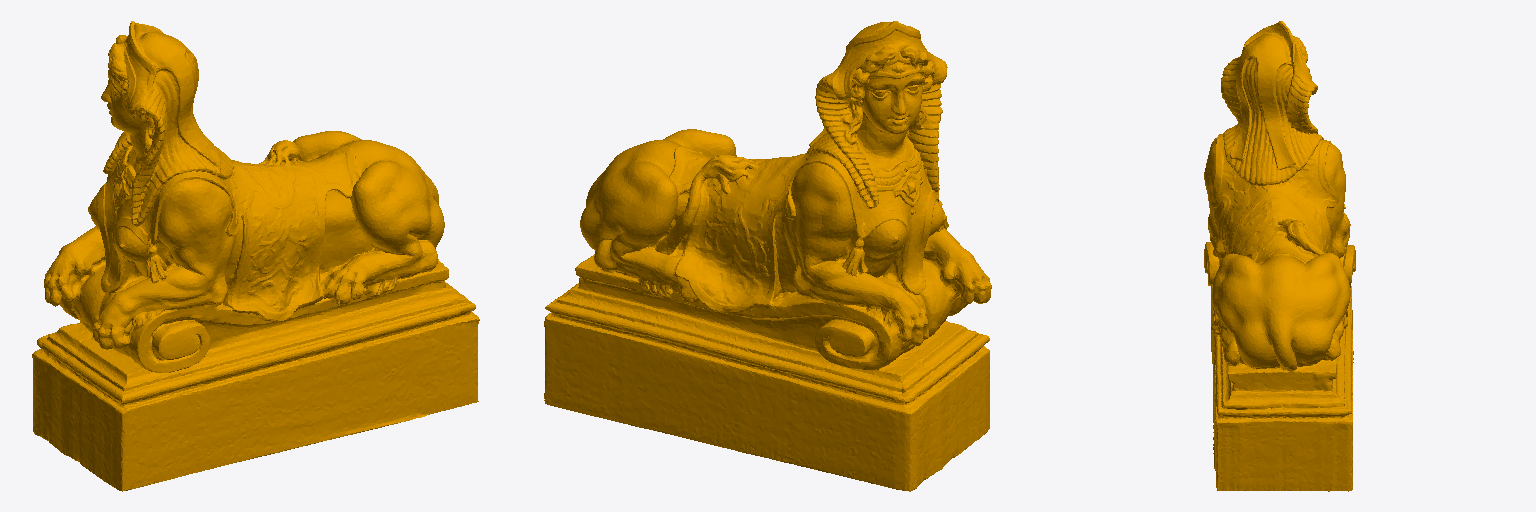
The robot description file, URDF, robot "sphinx":
<?xml version='1.0'?>

<robot name="sphinx">
    <static>false</static>
    <link name="link">
        <inertial>
            <mass value="0.1480189404459628"/>
            <inertia ixx="0.00013834774507808154" ixy="-2.9248255370616197e-06" ixz="2.6348900237743498e-05"
                     iyy="0.00027273249651035305" iyz="4.2784641021437595e-06" izz="0.0001822471744649809"/>
        </inertial>
        <collision name="collision">
            <geometry>
                <mesh filename="package://miscnet/train/sphinx/collision_model_vhacd.obj"/>
            </geometry>
        </collision>
        <visual name="visual">
            <geometry>
                <mesh filename="package://miscnet/train/sphinx/visual_model.obj"/>
            </geometry>
        </visual>
    </link>
</robot>

--- Facts derived from the render (not from the file) ---
Views: 3 orthographic renders of the robot side by side, from view 1: azimuth 30°, elevation 25°; view 2: azimuth 150°, elevation 25°; view 3: azimuth 270°, elevation 25°.
Model sphinx with 1 links and 0 joints (none), rooted at link, posed all joints at 0.
Links seen in each view (by area): view 1: link; view 2: link; view 3: link.
Link boxes in pixels (x1=…): link: x1=32, y1=21, x2=479, y2=491; link: x1=544, y1=21, x2=991, y2=491; link: x1=1204, y1=21, x2=1355, y2=491.
Bounding box of the posed robot: 0.1244 × 0.0537 × 0.1356 m (x, y, z).
1 mesh visuals loaded from 1 distinct referenced files (1 OBJ).
